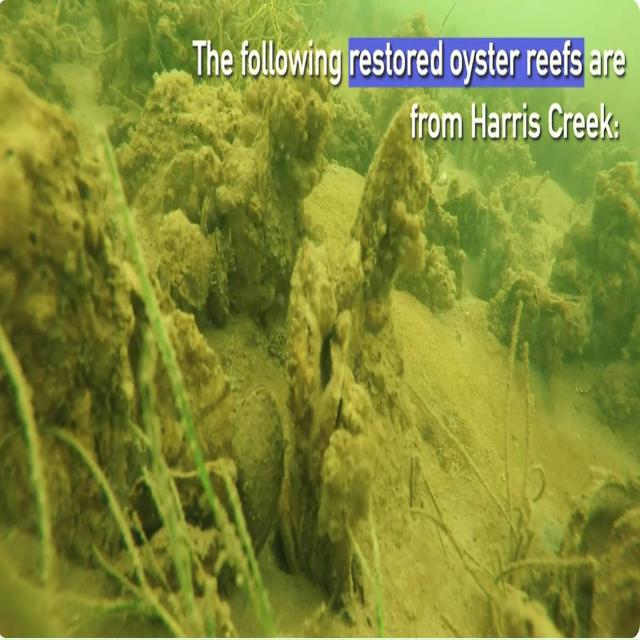Oyster- Indeterminate: (0, 66, 134, 579), (344, 100, 437, 334), (130, 303, 250, 482), (556, 163, 640, 356), (308, 425, 382, 548), (105, 525, 232, 592), (233, 386, 284, 552), (120, 464, 219, 544), (150, 207, 218, 313), (538, 287, 589, 372), (170, 94, 230, 159), (225, 203, 269, 286), (0, 38, 52, 102), (11, 8, 61, 71), (162, 150, 195, 218), (207, 458, 241, 515)
Oyster-Closed: (242, 85, 285, 220), (208, 227, 234, 325)
Oyster-Open: (281, 240, 371, 591), (560, 476, 640, 636), (301, 358, 366, 499), (498, 278, 546, 367), (51, 13, 93, 63), (100, 106, 142, 153), (439, 187, 481, 217), (197, 185, 220, 236)
